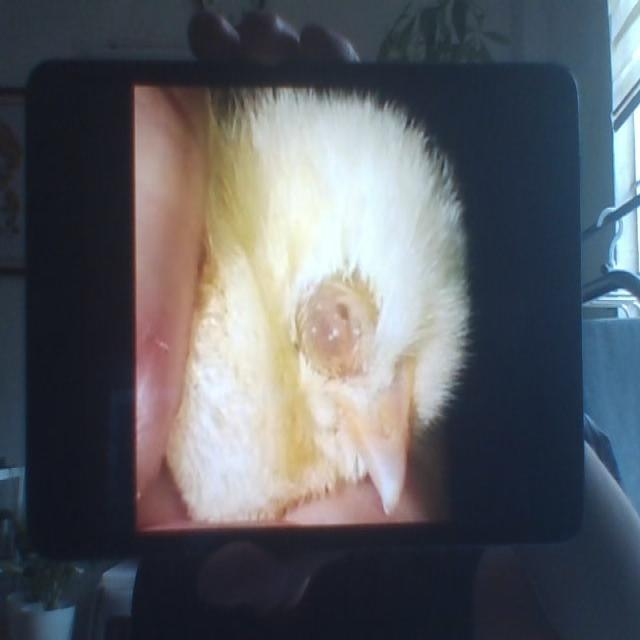Sick: (162, 90, 466, 528)
